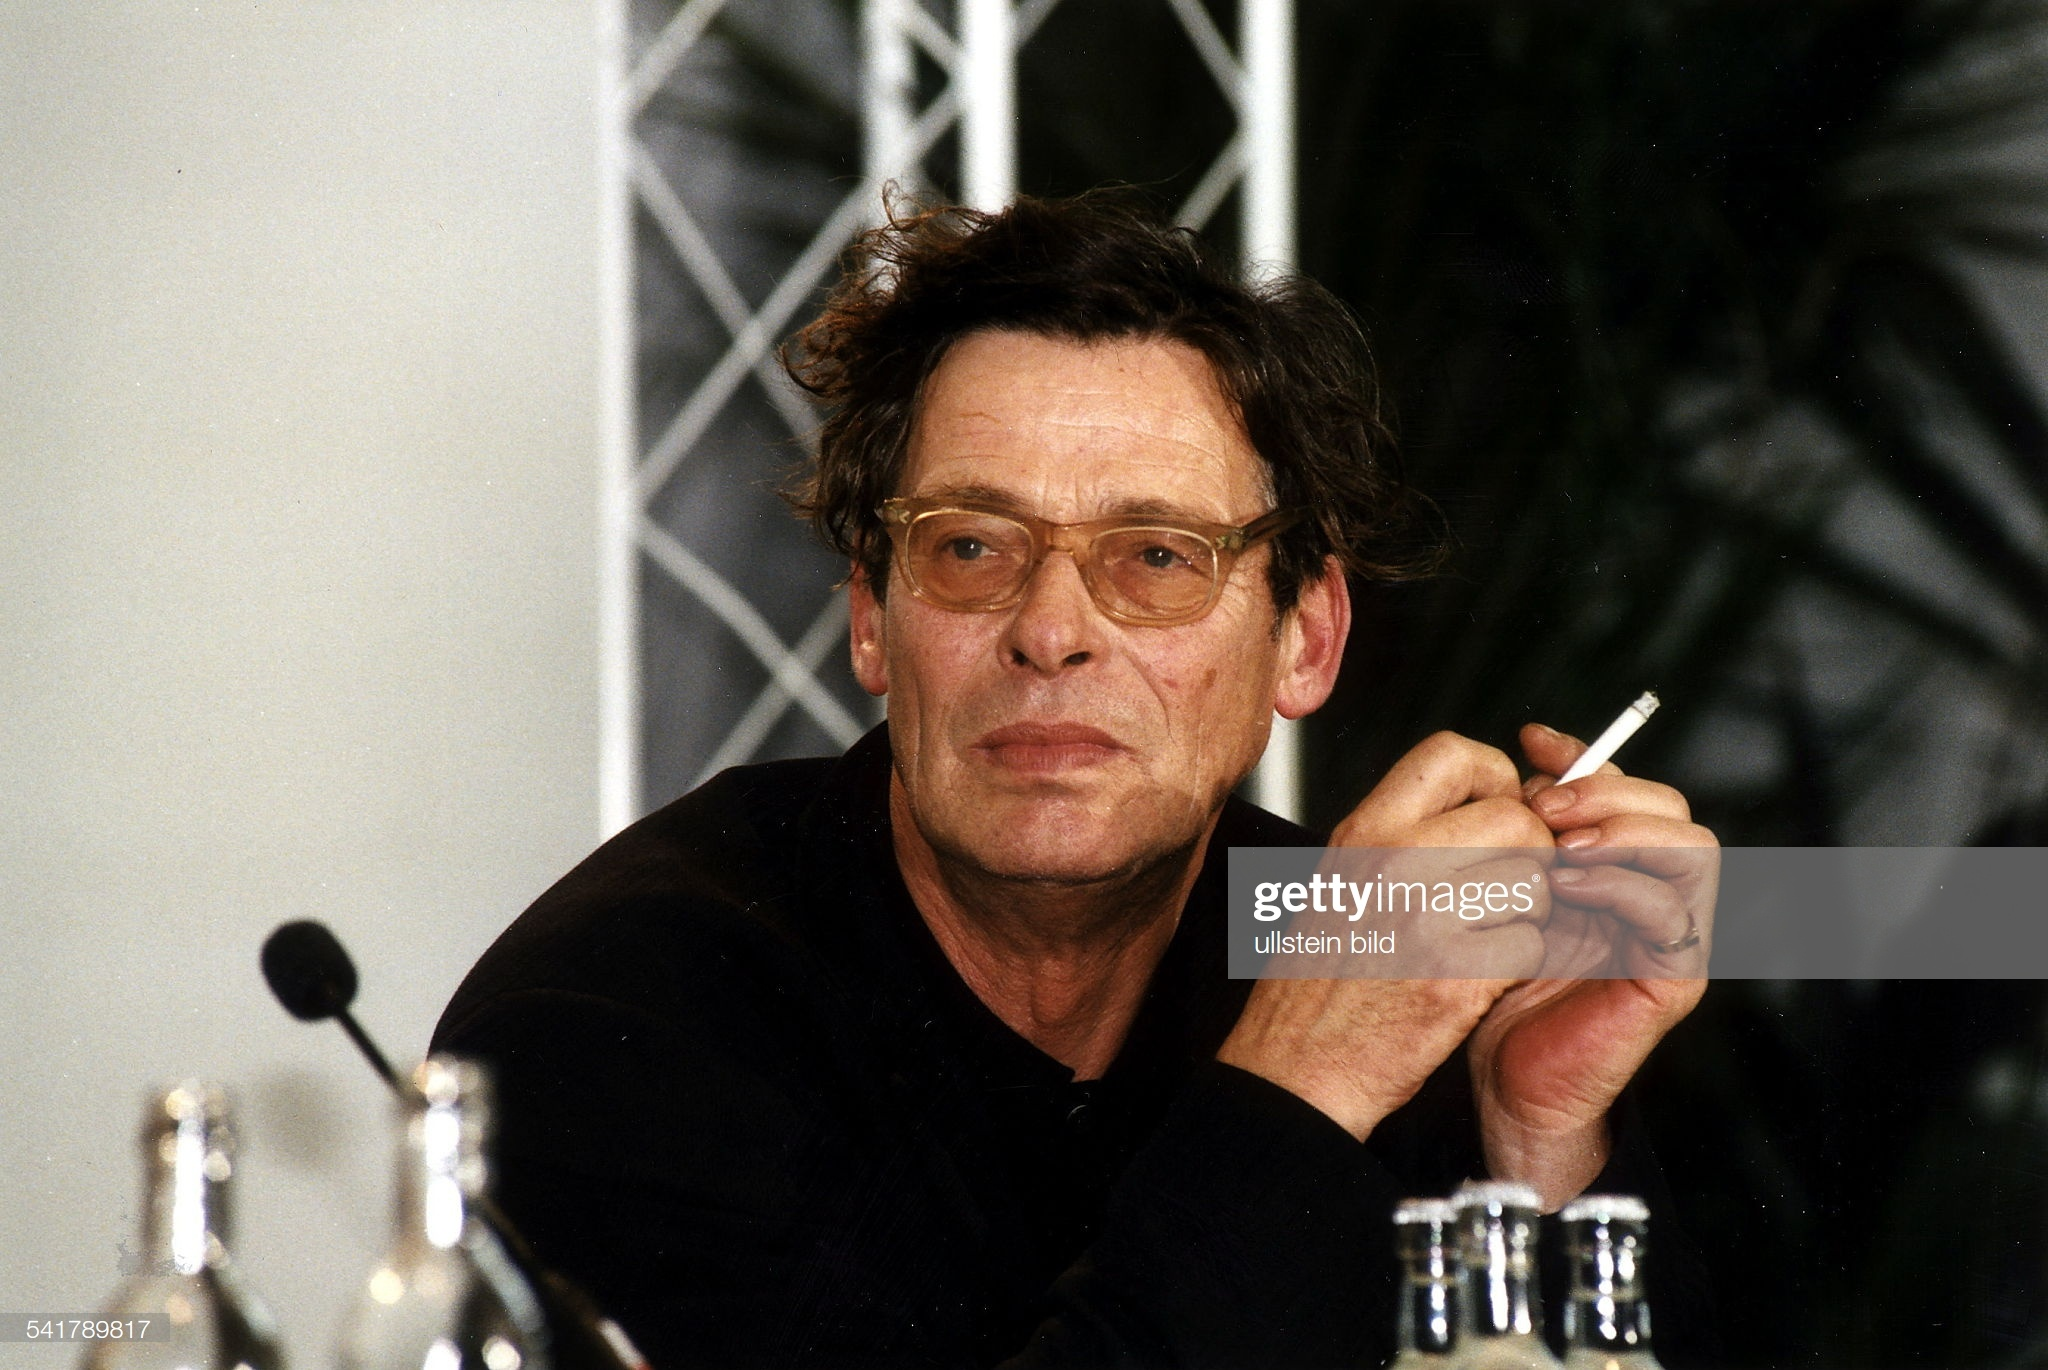sigaretta: (1521, 687, 1660, 816)
